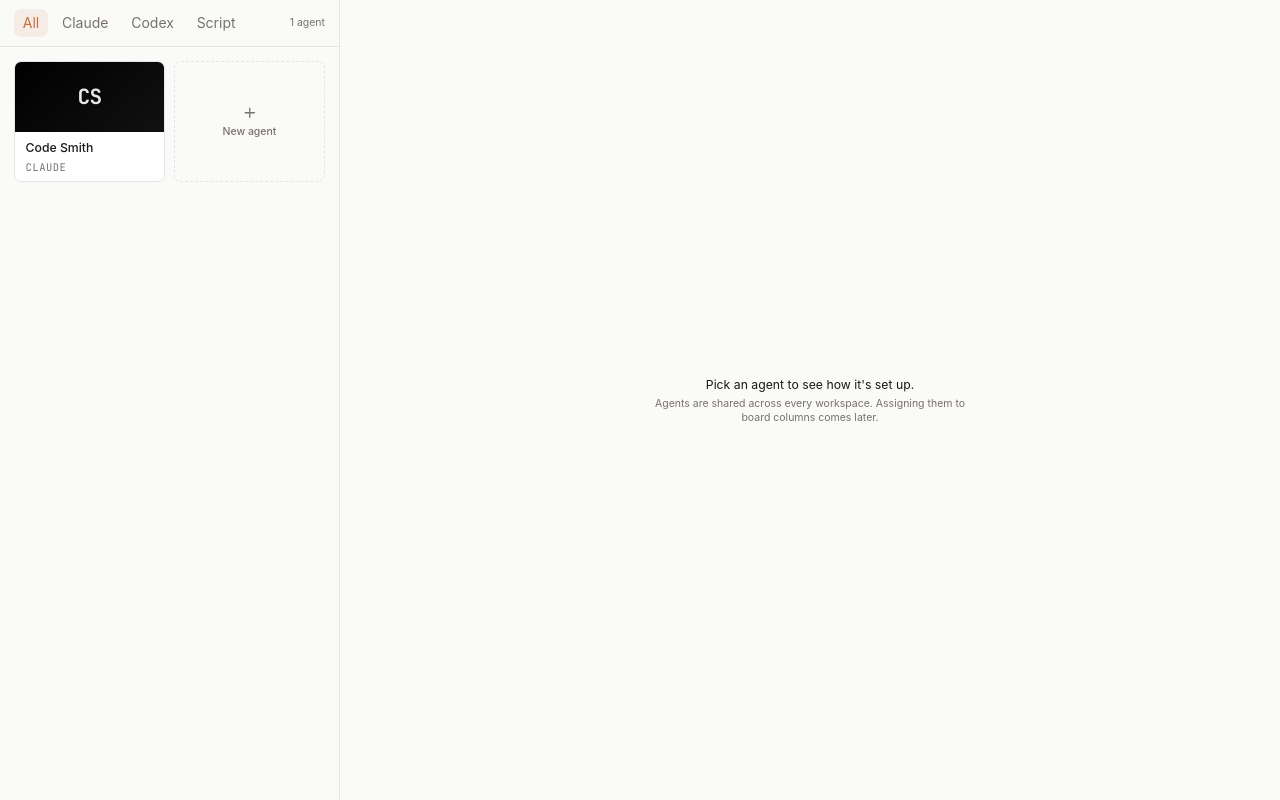
Test: RosterView › the dossier says so plainly when nothing uses the agent
This screenshot has width=1280, height=800.
What coordinates should you click on to do the following:
click the button with test id "agent-tile-a1"
I would click on:
 (90, 121)
Its box is [14,60,165,182].
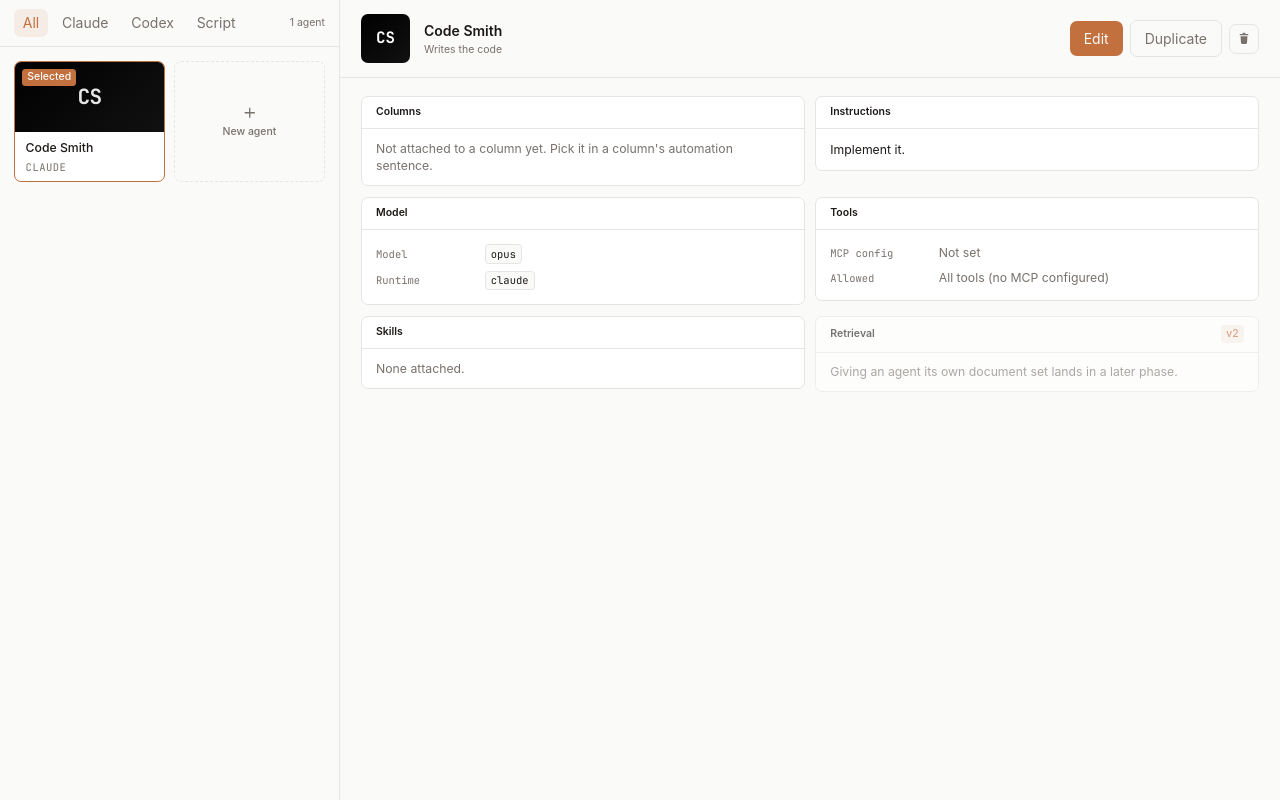
expect the text "Not attached to a column yet" is shown: met, box [376,140,733,173]
